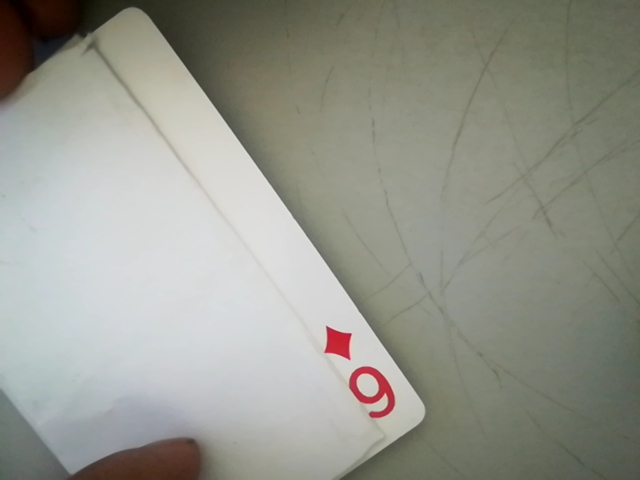fk 6: (311, 321, 412, 436)
